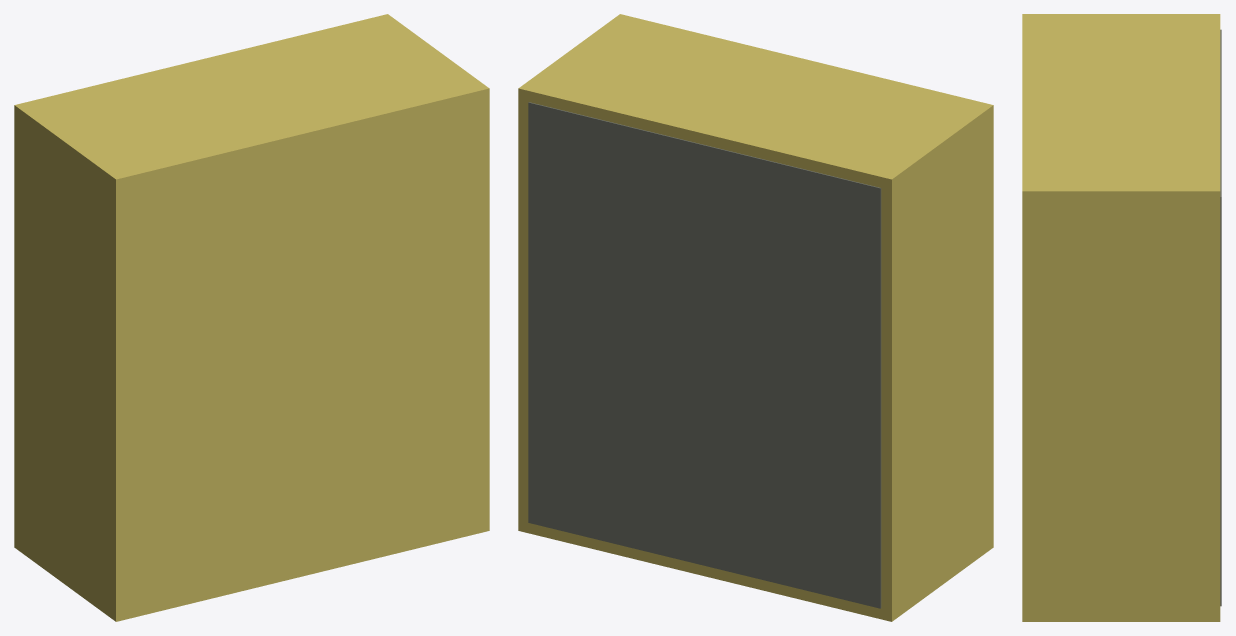
File: closedShelf.dae
3 renders of one model, left to right at view 1: azimuth 30°, elevation 25°; view 2: azimuth 150°, elevation 25°; view 3: azimuth 270°, elevation 25°, orthographic. The views are drawn at different scales.
Parts seen in each view (by area): view 1: closedShelf; view 2: closedShelf, closedShelf_Cube; view 3: closedShelf.
Part boxes in pixels (left/top/right/bottom): closedShelf: left=14, top=14, right=489, bottom=621; closedShelf: left=518, top=14, right=993, bottom=621; closedShelf_Cube: left=529, top=523, right=881, bottom=619; closedShelf: left=1022, top=14, right=1221, bottom=621.
Bounding box in the file's own units: 1.06 × 0.503 × 1.2.
